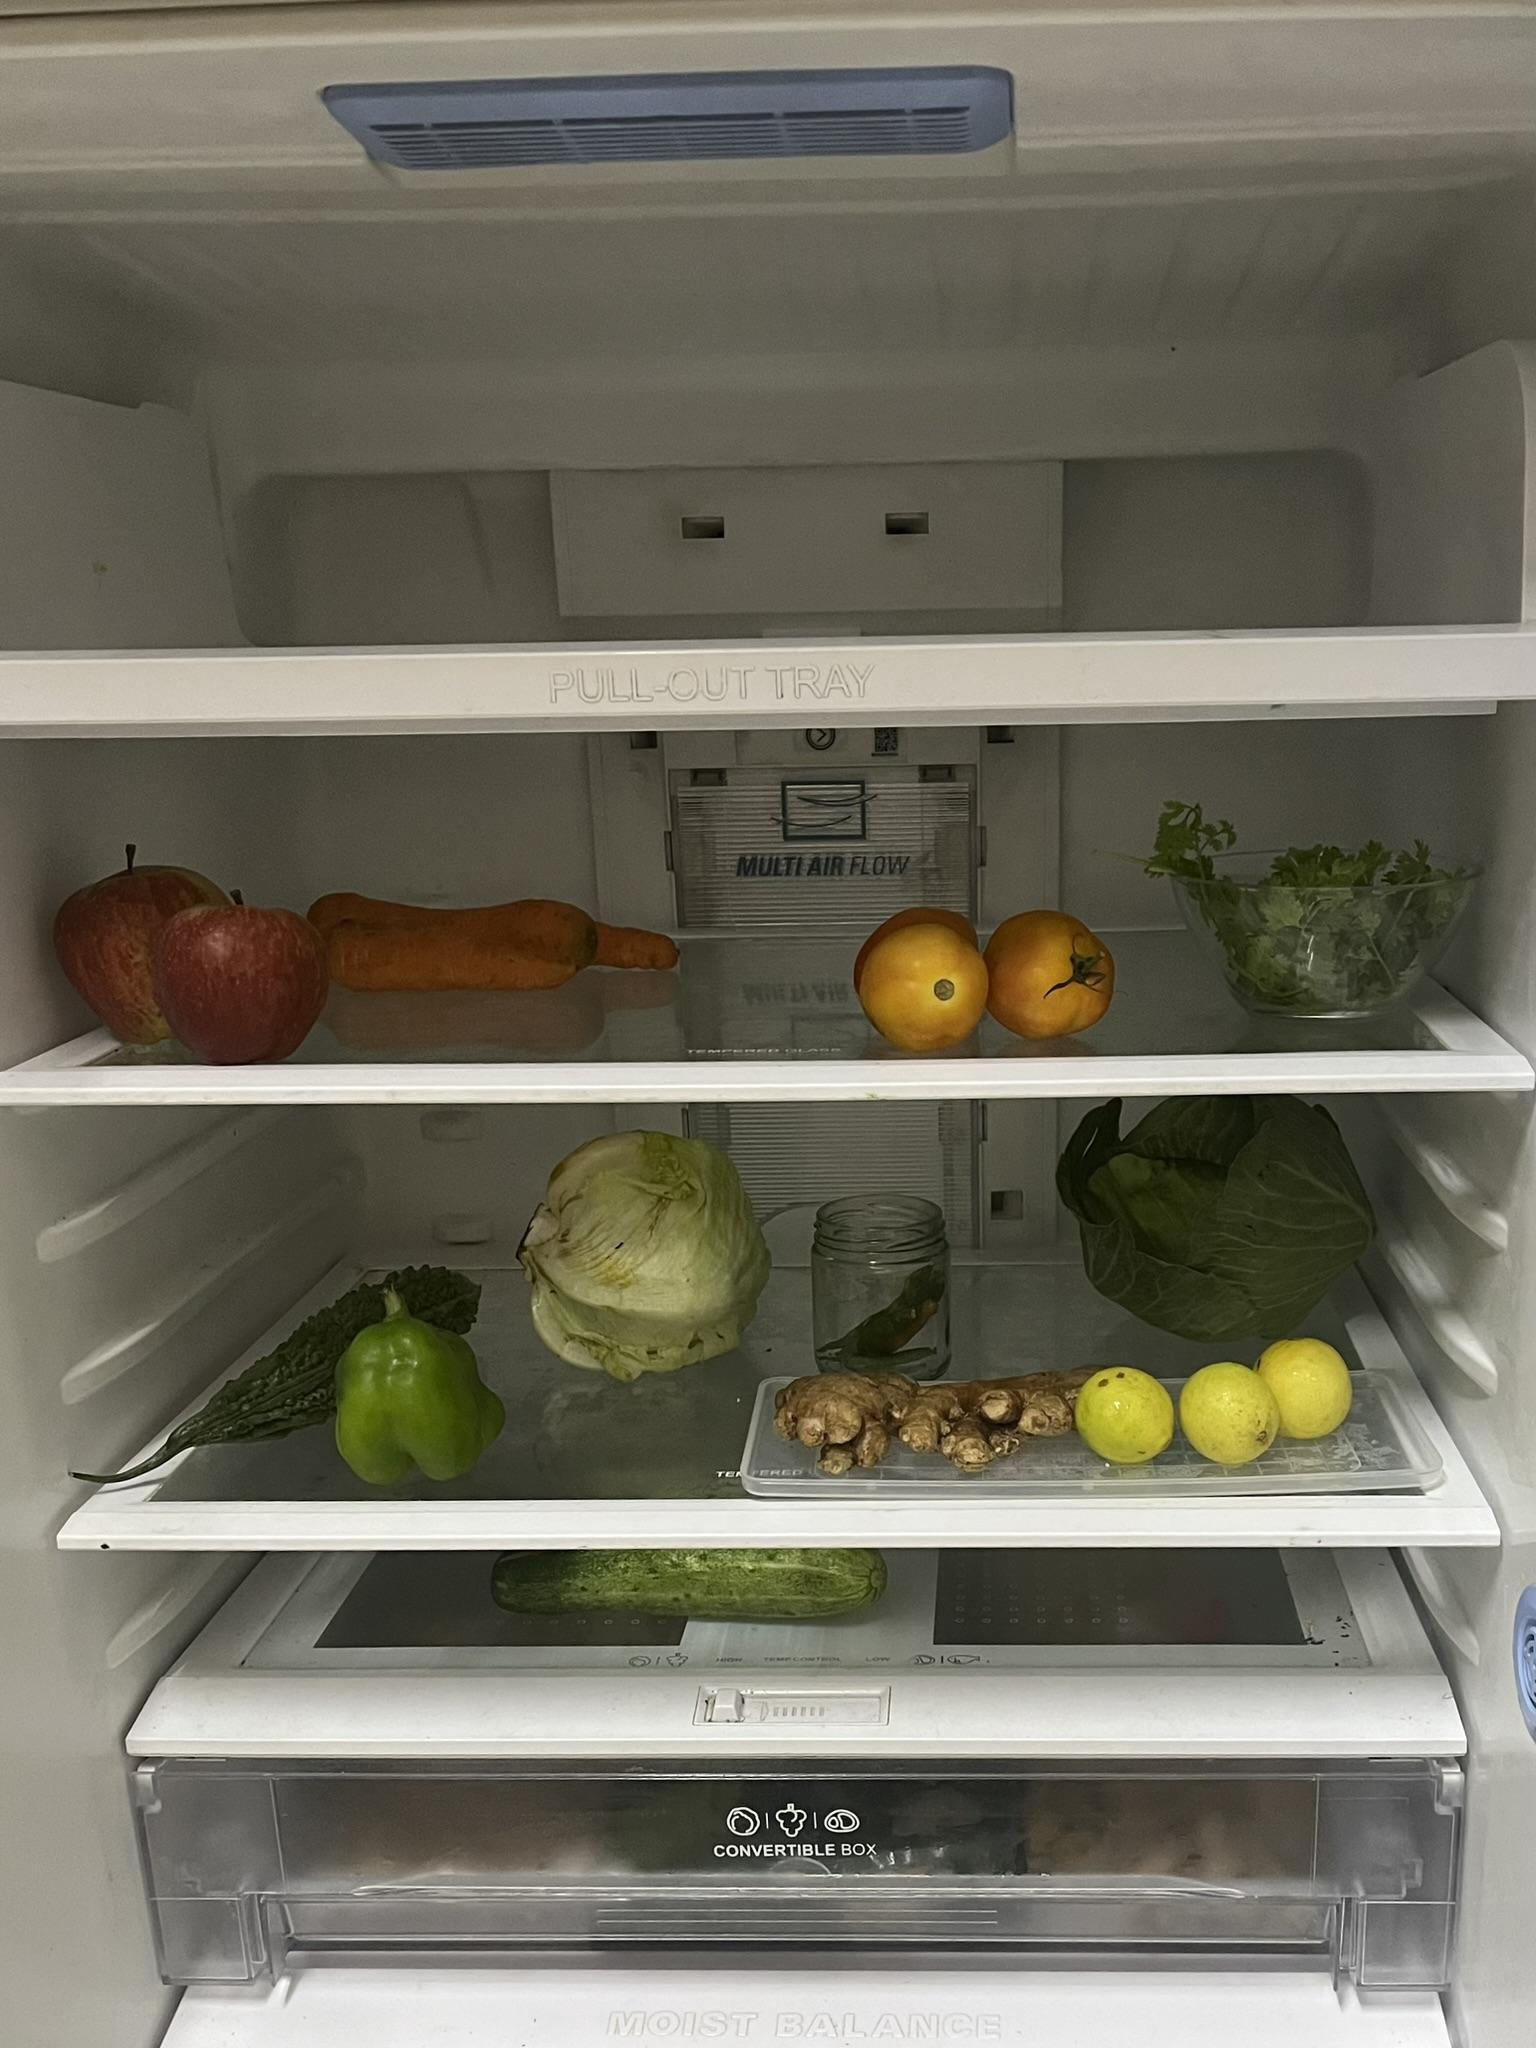apple: (60, 866, 323, 1056)
bitter gaurd: (137, 1256, 484, 1487)
cabbage: (1070, 1097, 1383, 1334)
capsicum: (337, 1300, 503, 1487)
carrots: (326, 884, 687, 993)
chillies: (816, 1271, 950, 1377)
coriander: (1183, 810, 1433, 1021)
ginger: (766, 1374, 1091, 1467)
lemon: (1073, 1337, 1350, 1471)
lettuce: (513, 1127, 776, 1374)
tomato: (844, 897, 1117, 1047)
